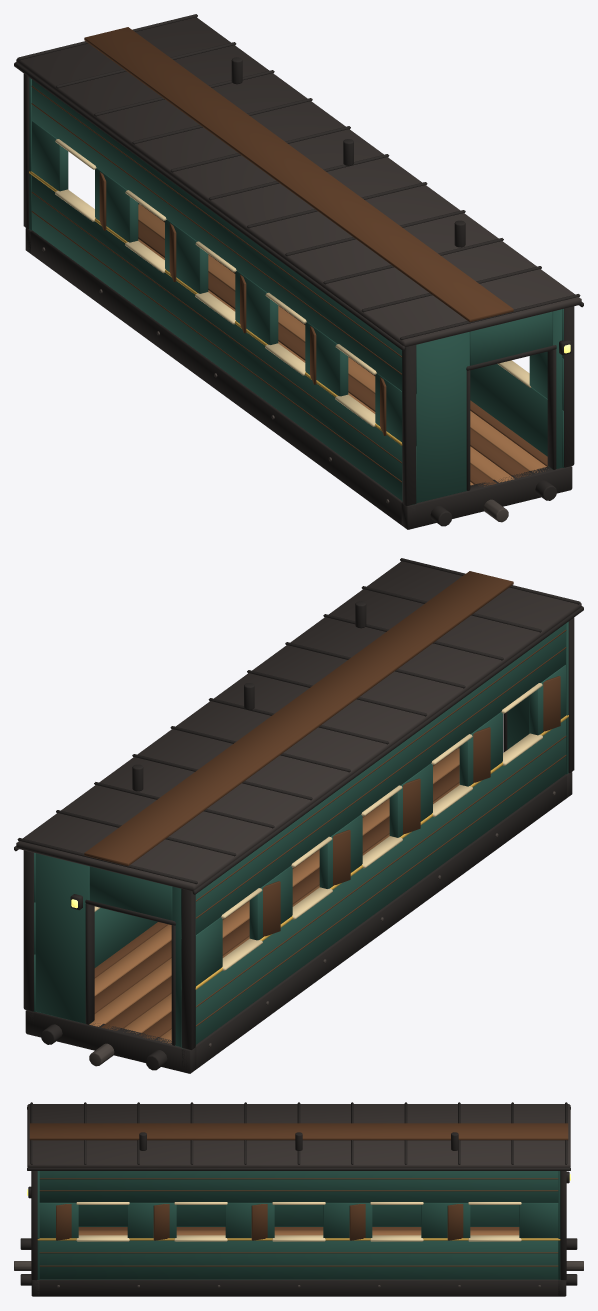
File: car_passenger.glb
3 views of the same model, one above another, from view 1: azimuth 30°, elevation 25°; view 2: azimuth 150°, elevation 25°; view 3: azimuth 270°, elevation 25° (orthographic). The views are drawn at different scales.
Visible parts, largest first — view 1: roofsheet, low-1, walkway, up-1, sill-1, end_l-5.9, low1, endbeam-6.0, end_t-5.9, deck5, post-1-5.94, deck4 (+20 smaller); view 2: roofsheet, low-1, walkway, up-1, sill-1, end_r5.9, endbeam6.0, deck5, deck4, end_t5.9, post-15.94, gutter-1 (+25 smaller); view 3: roofsheet, low1, up1, walkway, sill1, low-1, gutter1, deck1, pier110, pier18, pier12, pier14 (+22 smaller).
Boxes of the visible parts, box(x1,y1,x2,y2) form: roofsheet: box(16, 17, 581, 347); low-1: box(32, 175, 416, 505); walkway: box(84, 27, 513, 321); up-1: box(32, 79, 416, 393); sill-1: box(26, 228, 415, 528); end_l-5.9: box(402, 332, 469, 502); low1: box(470, 364, 564, 467); endbeam-6.0: box(401, 466, 572, 529); end_t-5.9: box(470, 311, 552, 365); deck5: box(138, 204, 514, 482); post-1-5.94: box(402, 345, 416, 506); deck4: box(138, 221, 496, 486); roofsheet: box(16, 561, 581, 891); low-1: box(181, 719, 565, 1048); walkway: box(84, 571, 513, 865); up-1: box(181, 623, 565, 937); sill-1: box(182, 774, 572, 1071); end_r5.9: box(35, 853, 93, 1024); endbeam6.0: box(25, 1010, 196, 1073); deck5: box(89, 747, 459, 1026); deck4: box(101, 765, 459, 1030); end_t5.9: box(89, 866, 172, 920); post-15.94: box(181, 889, 195, 1050); gutter-1: box(192, 606, 583, 894); roofsheet: box(27, 1104, 570, 1167); low1: box(39, 1240, 558, 1279); up1: box(39, 1171, 558, 1202); walkway: box(29, 1123, 568, 1140); sill1: box(31, 1279, 566, 1296); low-1: box(78, 1205, 519, 1226); gutter1: box(27, 1167, 570, 1170); deck1: box(78, 1230, 519, 1235); pier110: box(519, 1203, 558, 1238); pier18: box(421, 1203, 470, 1238); pier12: box(127, 1203, 176, 1238); pier14: box(225, 1203, 274, 1238).
Size of the model in its own units: 3.3 by 3.82 by 12.8.
